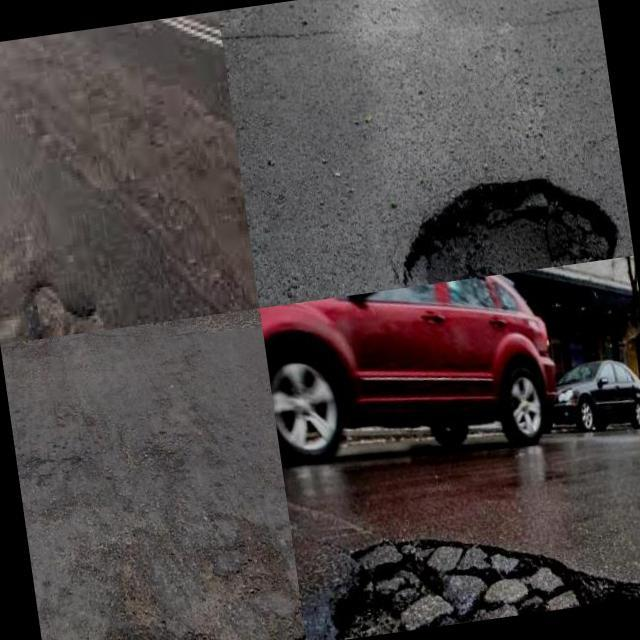Pothole: (334, 538, 640, 640), (404, 179, 617, 288)
